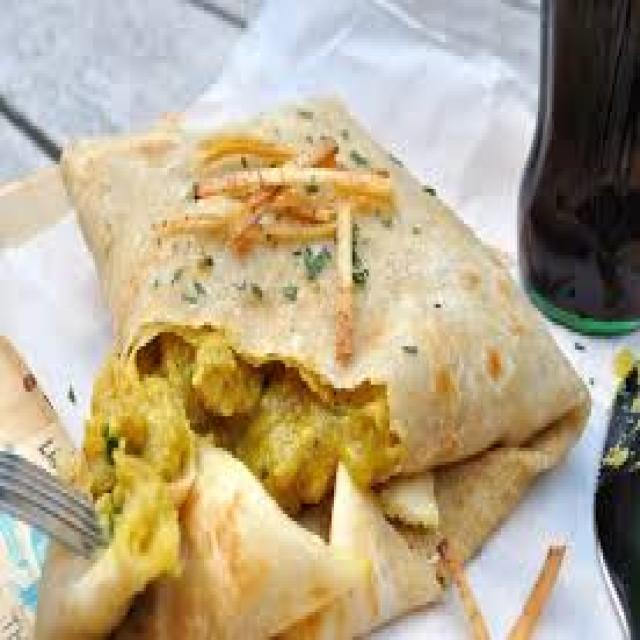BAJI: (82, 328, 387, 556)
ROTI: (25, 94, 589, 637)
